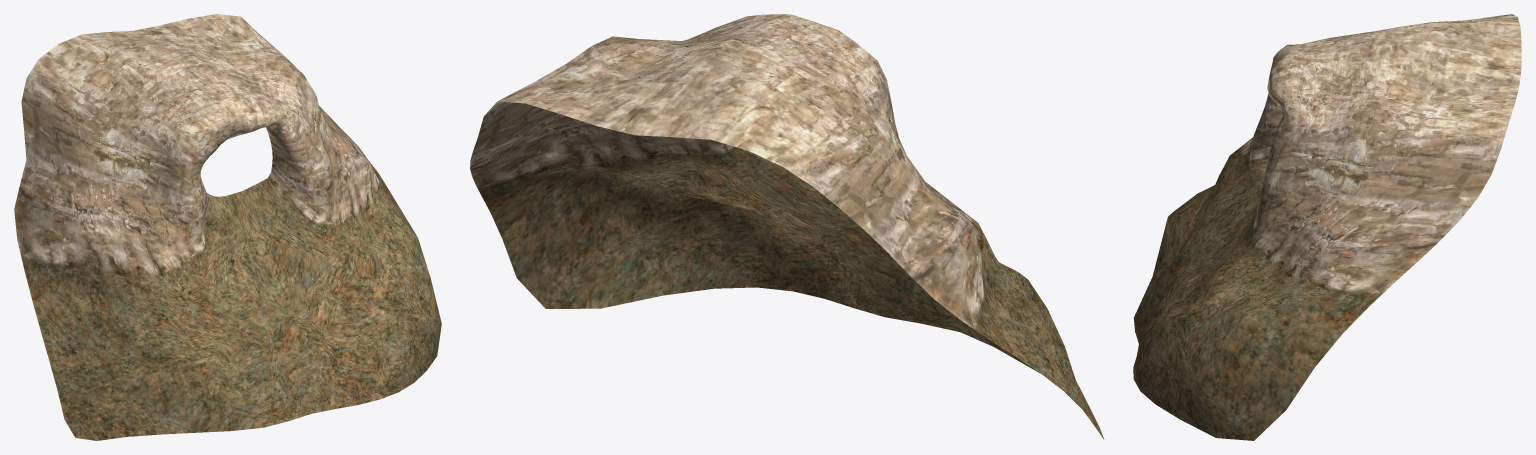
File: thm_all_cave_s02_r0_mesh_l1.fbx
3 renders of one model, left to right at view 1: azimuth 30°, elevation 25°; view 2: azimuth 150°, elevation 25°; view 3: azimuth 270°, elevation 25°, orthographic. The views are drawn at different scales.
Parts seen in each view (by area): view 1: mesh_node; view 2: mesh_node; view 3: mesh_node.
Part boxes in pixels (bbox=[...]): mesh_node: bbox=[14, 14, 441, 440]; mesh_node: bbox=[470, 14, 1104, 439]; mesh_node: bbox=[1133, 14, 1521, 440].
Size of the model in its own units: 48.97 by 34.18 by 39.36.
